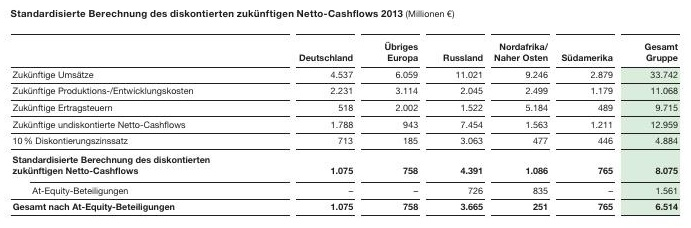table: (0, 0, 691, 228)
